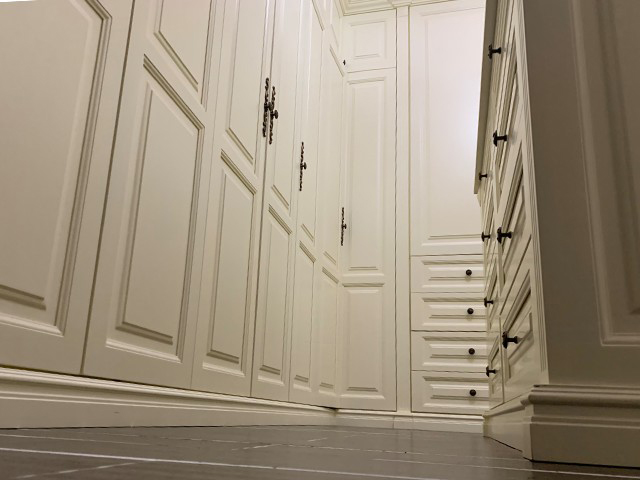cabinet: (1, 1, 491, 432), (473, 1, 640, 466)
